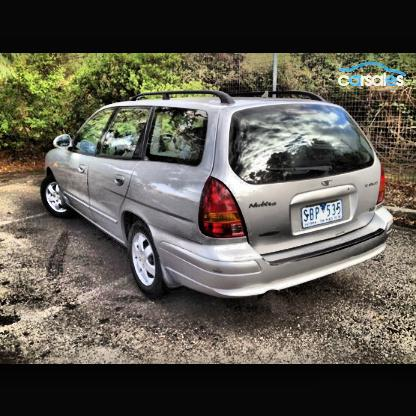Daewoo Nubira Wagon 2002: (42, 90, 397, 305)
